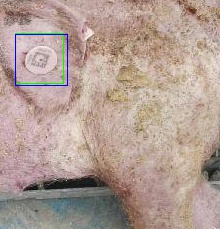text: (15, 33, 63, 83)
